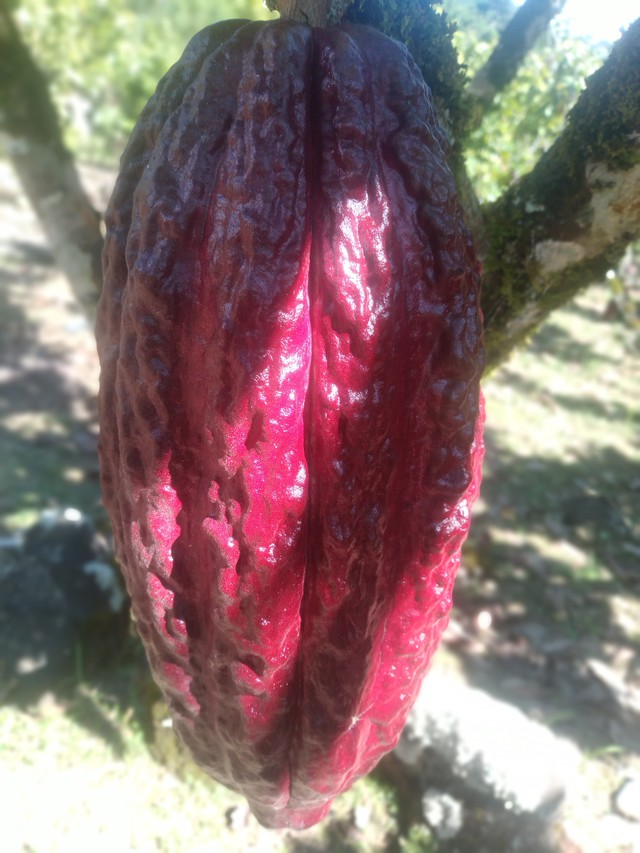Health: (73, 9, 499, 844)
